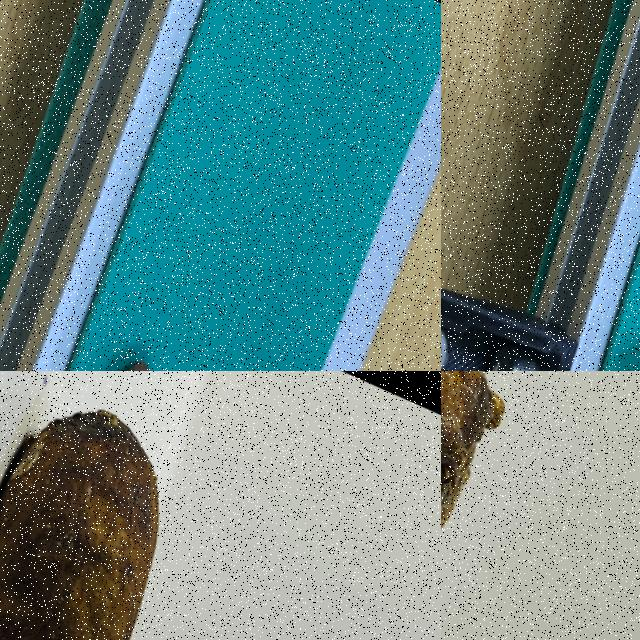Agglomerated_cocoabeans: (441, 371, 623, 639), (503, 220, 639, 370)
Fine_cocoabeans: (0, 371, 253, 639)
Flat_cocoabeans: (13, 233, 237, 370)
